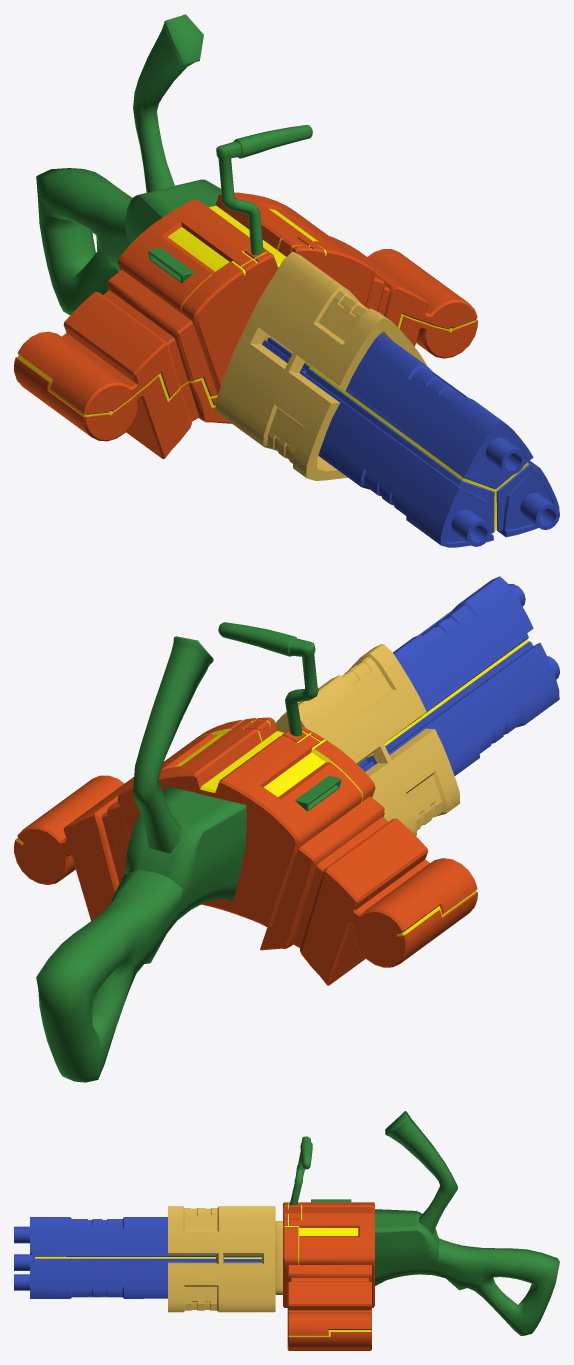
Rendered from Machingun_L.FBX.
The picture shows the model from 3 angles, top to bottom: view 1: azimuth 30°, elevation 25°; view 2: azimuth 150°, elevation 25°; view 3: azimuth 270°, elevation 25°; orthographic projection. The views are drawn at different scales.
Parts seen in each view (by area): view 1: Object005, Object004, Object003; view 2: Object005, Object004, Object003; view 3: Object005, Object004, Object003.
Boxes of the visible parts, x1,y1,x2,y2 form: Object005: (14,14,477,458); Object004: (262,333,559,547); Object003: (215,252,426,480); Object005: (14,622,477,1082); Object004: (357,576,559,775); Object003: (275,644,459,835); Object005: (283,1111,559,1350); Object004: (14,1217,261,1298); Object003: (168,1206,282,1312).
Size of the model in its own units: 81.48 by 72.66 by 165.
